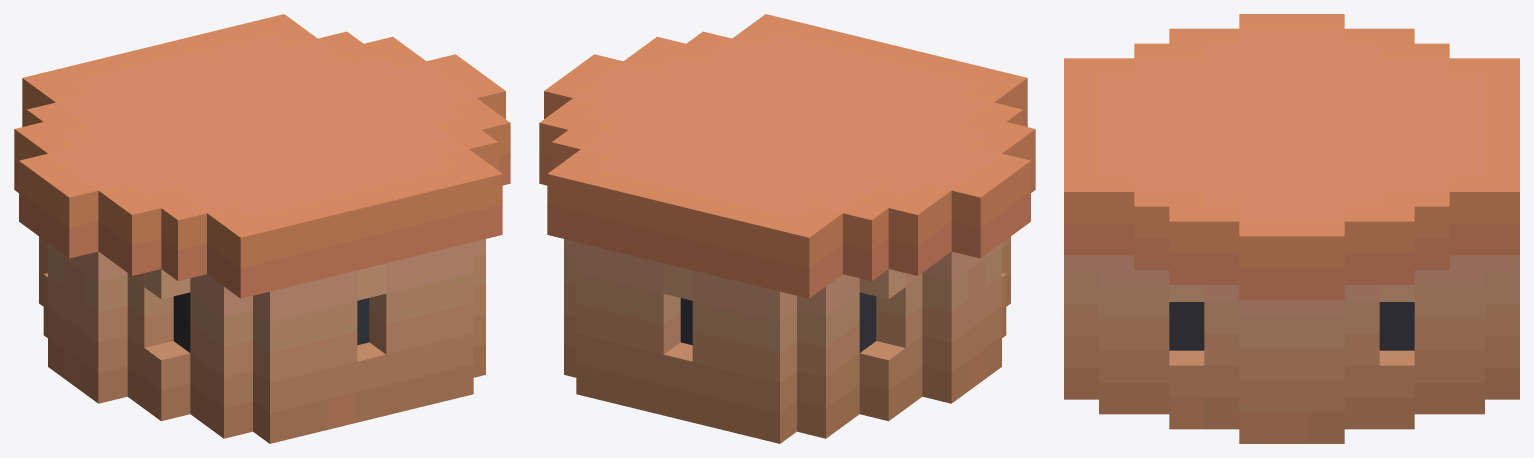
The model's file is tower-hexagon-mid.glb.
3 renders of one model, left to right at view 1: azimuth 30°, elevation 25°; view 2: azimuth 150°, elevation 25°; view 3: azimuth 270°, elevation 25°, orthographic. The views are drawn at different scales.
Visible parts, largest first — view 1: tower-hexagon-mid; view 2: tower-hexagon-mid; view 3: tower-hexagon-mid.
Boxes of the visible parts, x1,y1,x2,y2 form: tower-hexagon-mid: (14, 14, 510, 443); tower-hexagon-mid: (539, 14, 1035, 443); tower-hexagon-mid: (1064, 14, 1519, 443).
Size of the model in its own units: 1.02 by 0.476 by 0.884.
Materials: 1 (1 with a texture image).
